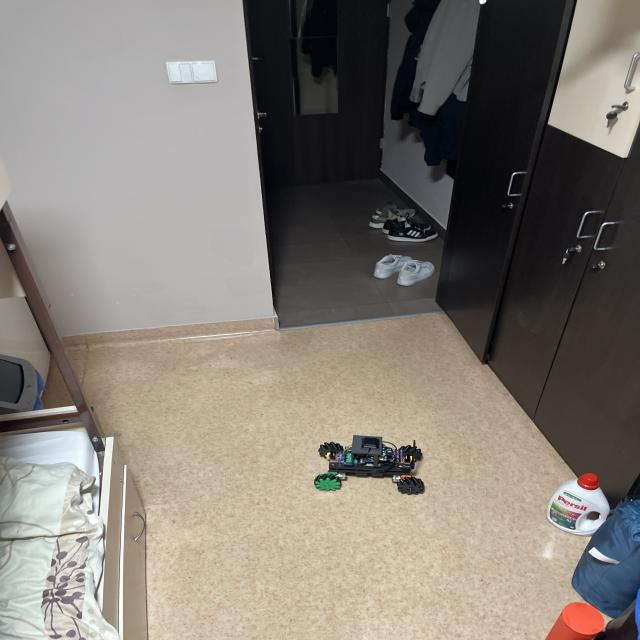robot: (314, 435, 424, 494)
